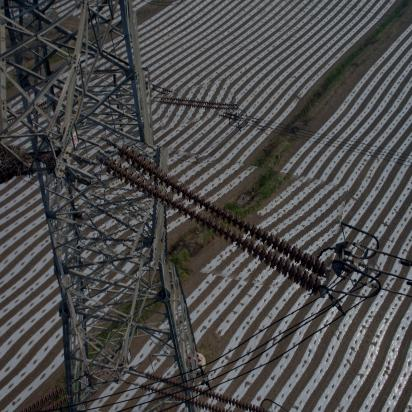insulator: (83, 147, 345, 287), (156, 82, 238, 127)
